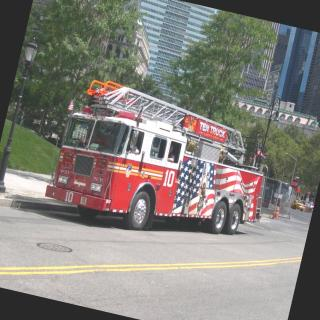Fire_truck: (40, 71, 284, 258)
